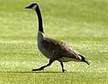goose: (22, 1, 92, 79)
